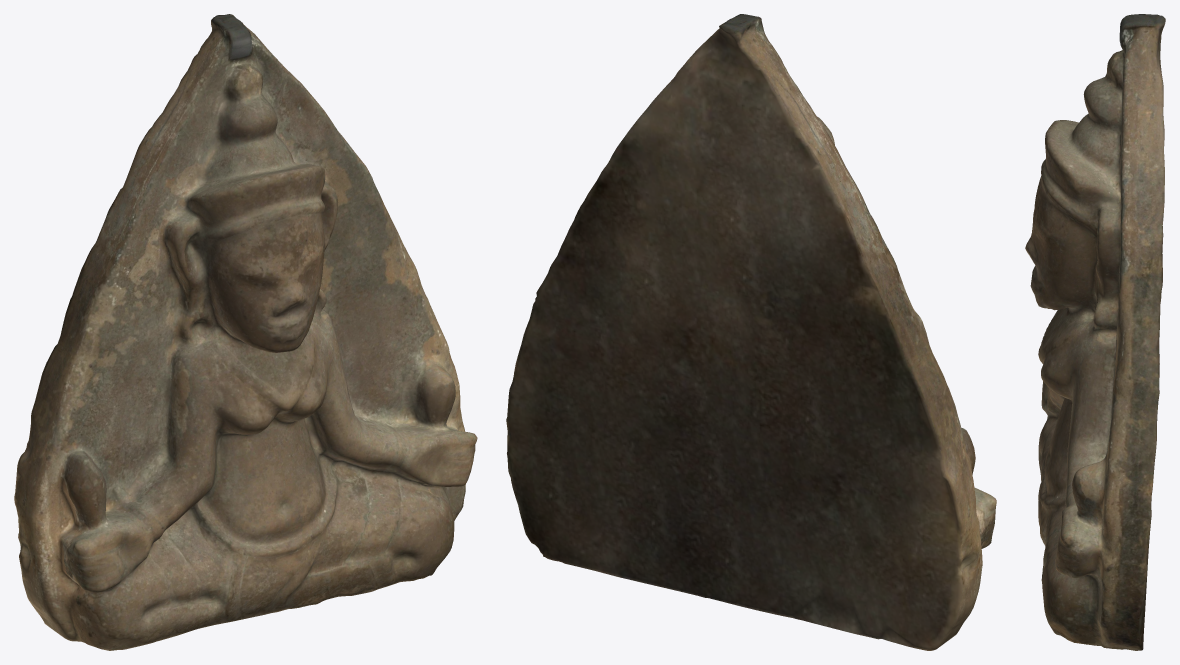
Rendered from 29_laskmi_final.glb.
The picture shows the model from 3 angles, left to right: view 1: azimuth 30°, elevation 25°; view 2: azimuth 150°, elevation 25°; view 3: azimuth 270°, elevation 25°; orthographic projection. The views are drawn at different scales.
Bounding box in the file's own units: 0.288 × 0.3542 × 0.0829.
1 material, 1 textured.
